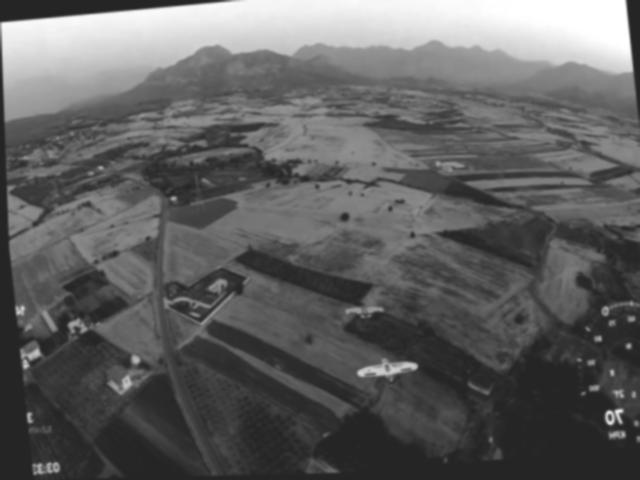hedef: (349, 347, 423, 390), (334, 297, 386, 336)
